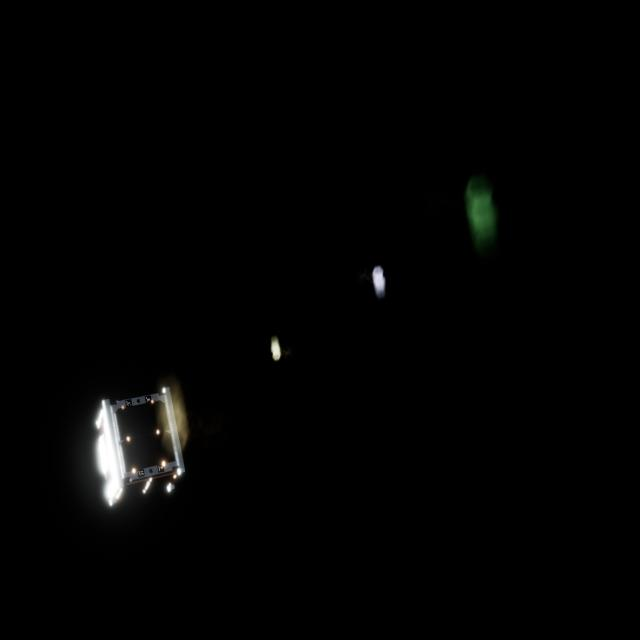satellite: (90, 383, 183, 512)
